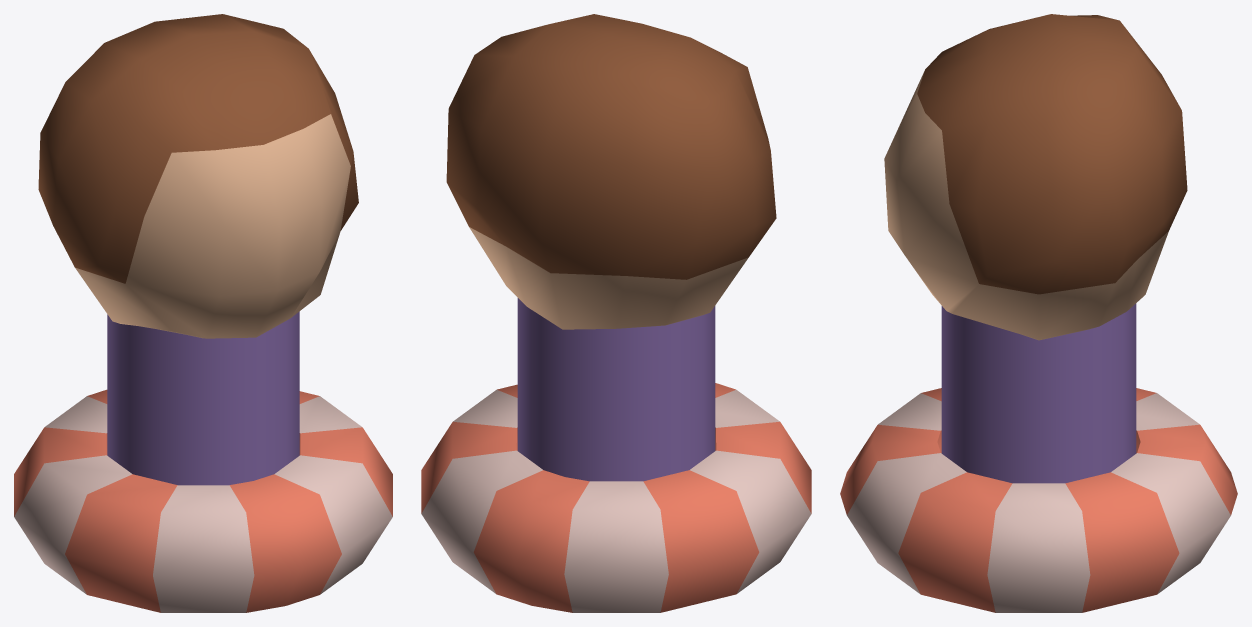
Rendered from char_3.fbx.
The picture shows the model from 3 angles, left to right: view 1: azimuth 30°, elevation 25°; view 2: azimuth 150°, elevation 25°; view 3: azimuth 270°, elevation 25°; orthographic projection. The views are drawn at different scales.
Visible parts, largest first — view 1: char_3; view 2: char_3; view 3: char_3.
Part boxes in pixels (<box>): char_3: <box>14,14,392,612</box>; char_3: <box>421,14,811,612</box>; char_3: <box>840,14,1237,612</box>.
Size of the model in its own units: 0.1358 by 0.1986 by 0.1406.
